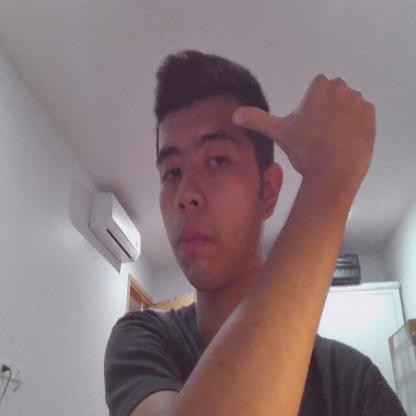right: (231, 72, 379, 192)
